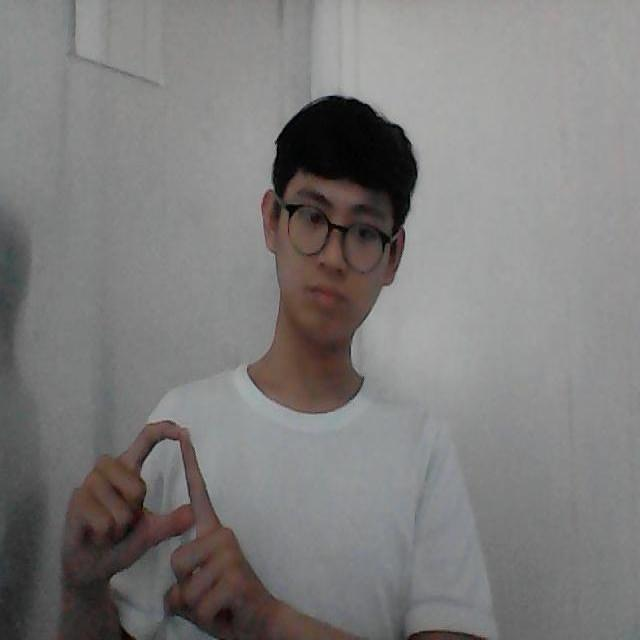D: (100, 410, 261, 603)
